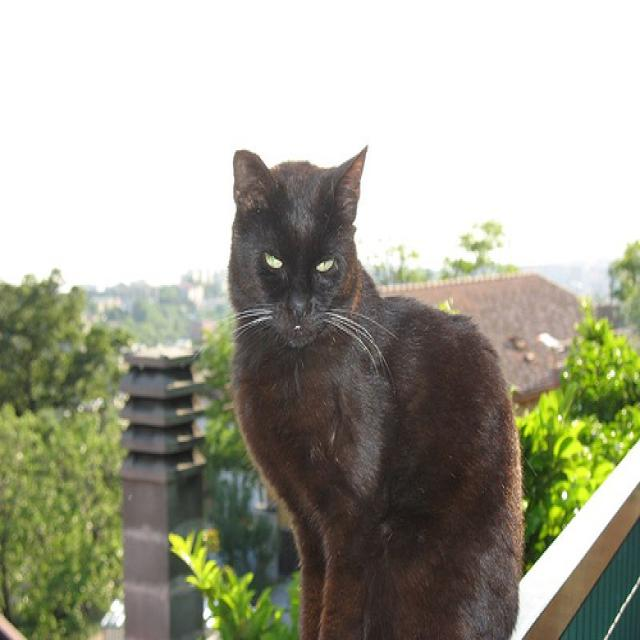left eye: (314, 252, 336, 274)
